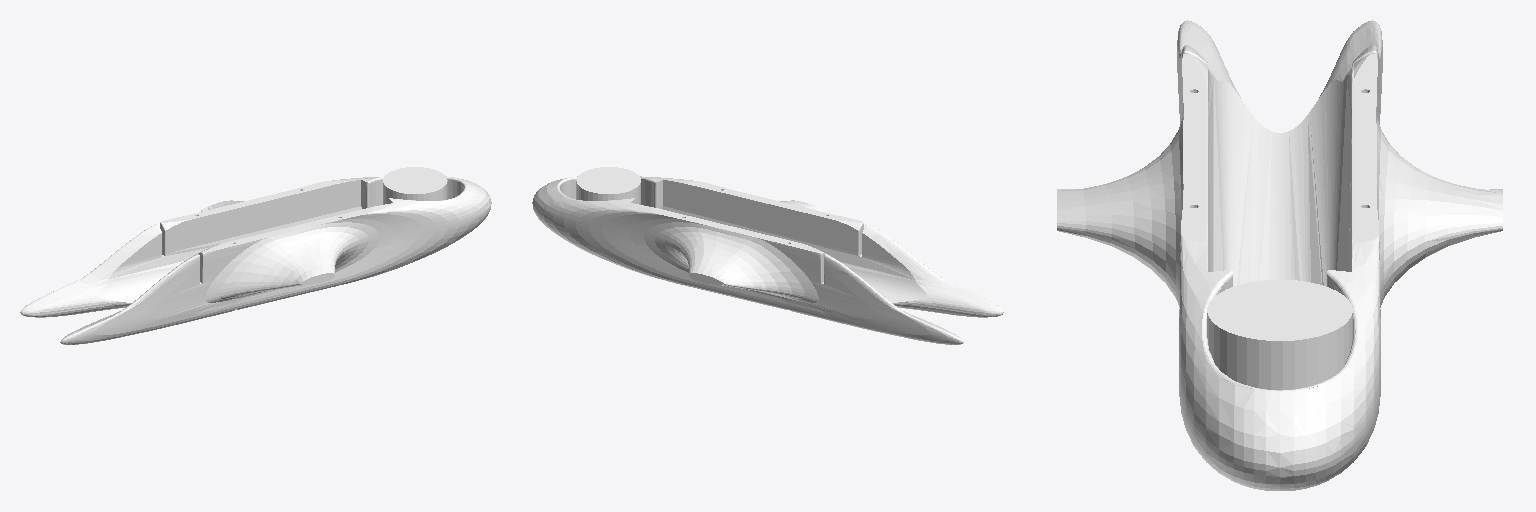
URDF robot description (nezha_rocket):
<?xml version="1.0" encoding="utf-8"?>
<!--
  Author: Jiaqing "Lance" Wang <jiaqing.wang@sjtu.edu.cn>
  Shanghai Jiao Tong University, The Nezha Lab
  Key Laboratory of Polar Ecosystem and Climate Change
  State Key Laboratory of Submarine Geoscience
-->
<!-- This URDF was automatically created by SolidWorks to URDF Exporter! Originally created by Stephen Brawner (brawner@gmail.com) 
     Commit Version: 1.6.0-4-g7f85cfe  Build Version: 1.6.7995.38578
     For more information, please see http://wiki.ros.org/sw_urdf_exporter -->
<robot
  name="nezha_rocket">
  <link
    name="base_link">
    <inertial>
      <origin
        xyz="0 -0.016735 -6.9389E-18"
        rpy="0 0 0" />
      <mass
        value="0.5297" />
      <inertia
        ixx="0.00091698"
        ixy="1.843E-20"
        ixz="-2.1269E-20"
        iyy="0.00016611"
        iyz="1.1032E-21"
        izz="0.00091698" />
    </inertial>
    <visual>
      <origin
        xyz="0 0 0"
        rpy="0 0 0" />
      <geometry>
        <mesh
          filename="package://nezha_rocket/meshes/base_link.STL" />
      </geometry>
      <material
        name="">
        <color
          rgba="1 1 1 1" />
      </material>
    </visual>
    <collision>
      <origin
        xyz="0 0 0"
        rpy="0 0 0" />
      <geometry>
        <mesh
          filename="package://nezha_rocket/meshes/base_link.STL" />
      </geometry>
    </collision>
  </link>
</robot>

--- What the picture shows (computed from the rendered views, not written in the file) ---
The picture shows the robot from 3 angles, left to right: view 1: azimuth 30°, elevation 25°; view 2: azimuth 150°, elevation 25°; view 3: azimuth 270°, elevation 25°; orthographic projection.
Robot: nezha_rocket — 1 links, 0 joints (none); root link base_link; default pose: all joints at 0.
Links seen in each view (by area): view 1: base_link; view 2: base_link; view 3: base_link.
Boxes of the visible links, x1,y1,x2,y2 form: base_link: (20, 167, 491, 344); base_link: (532, 167, 1003, 344); base_link: (1057, 20, 1502, 490).
Size in the robot's own frame: 0.3866 by 0.1488 by 0.0572 metres.
1 mesh visuals loaded from 1 distinct referenced files (1 binary STL).
